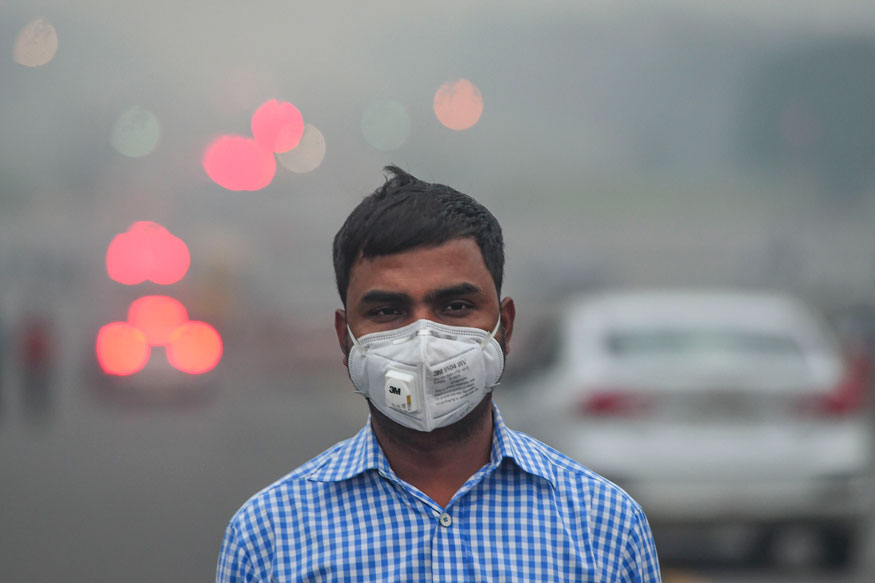n95: (342, 321, 514, 434)
